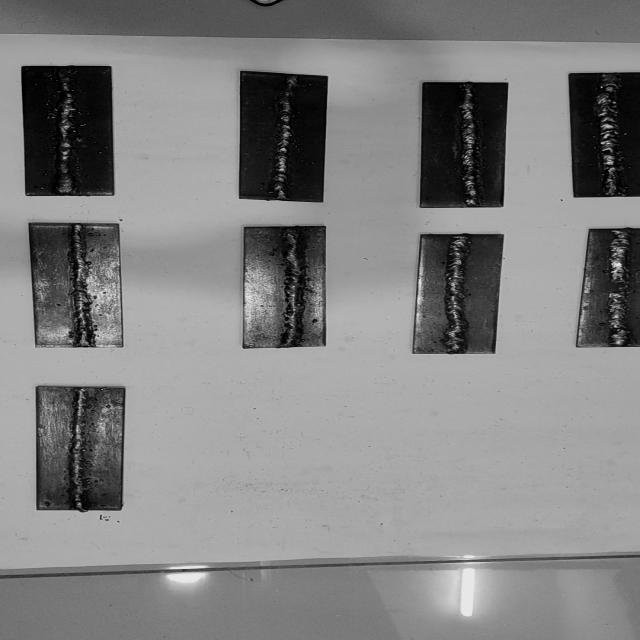Bad Weld: (273, 75, 302, 198), (606, 231, 632, 346)
Defect: (270, 75, 305, 112), (598, 272, 634, 298)
Good Weld: (594, 74, 626, 197), (444, 236, 475, 351), (68, 226, 93, 346), (282, 229, 306, 347), (458, 83, 481, 206), (53, 68, 75, 192), (70, 388, 88, 509)
